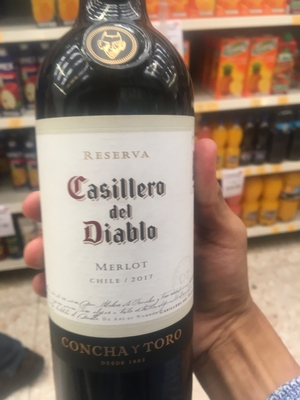casillero del diablo merlot: (33, 8, 202, 395)
